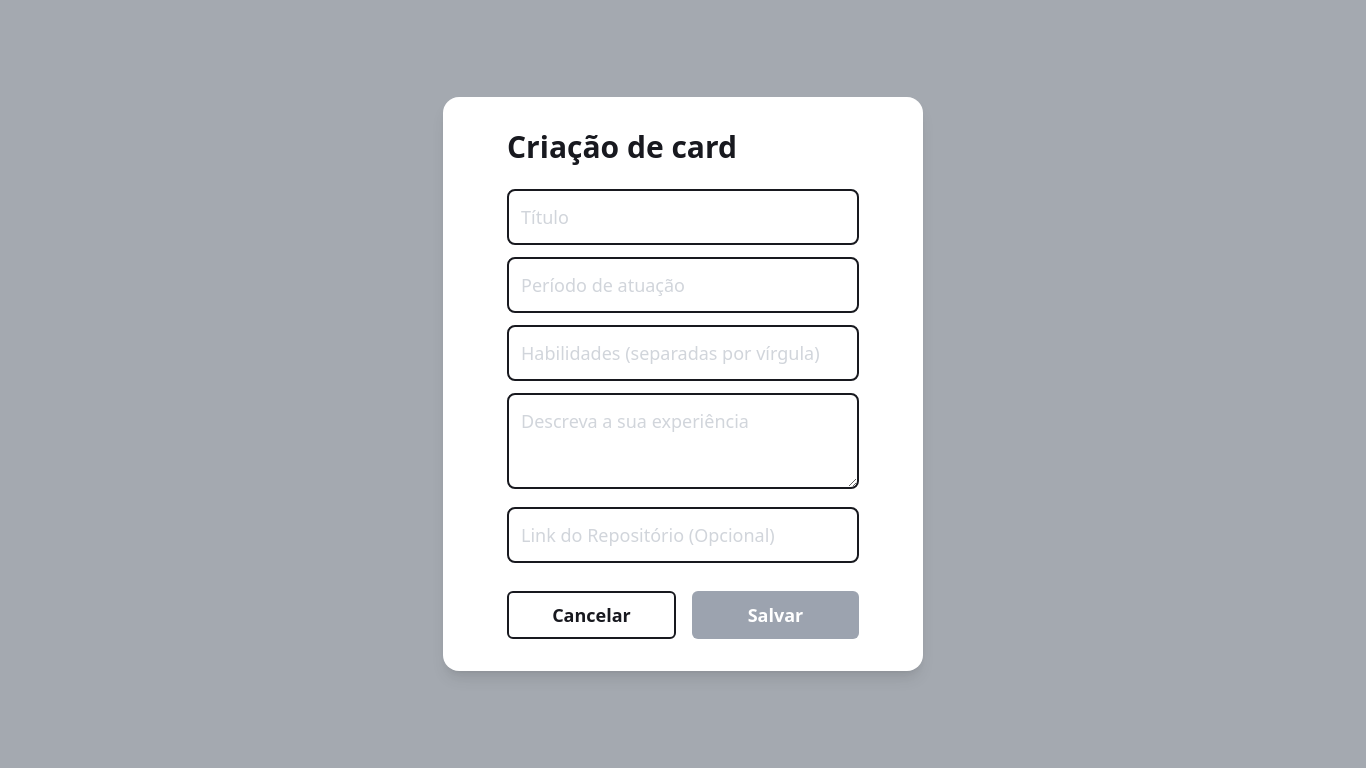
ExpModal Component › enables the save button when all required fields are filled
In the field with placeholder "Título": [683, 217] box [507, 189, 859, 245], type "Developer"
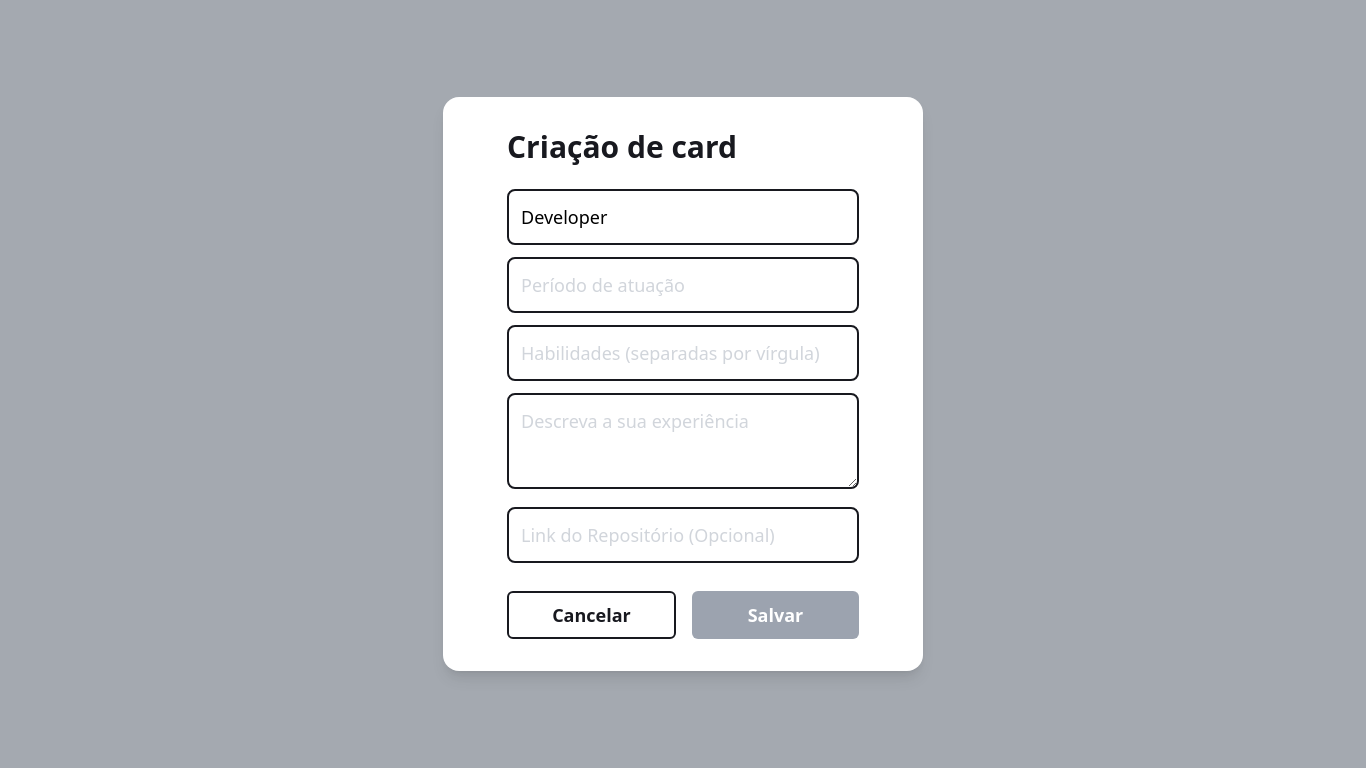
In the field with placeholder "Período de atuação": [683, 285] box [507, 257, 859, 313], type "2020-2021"
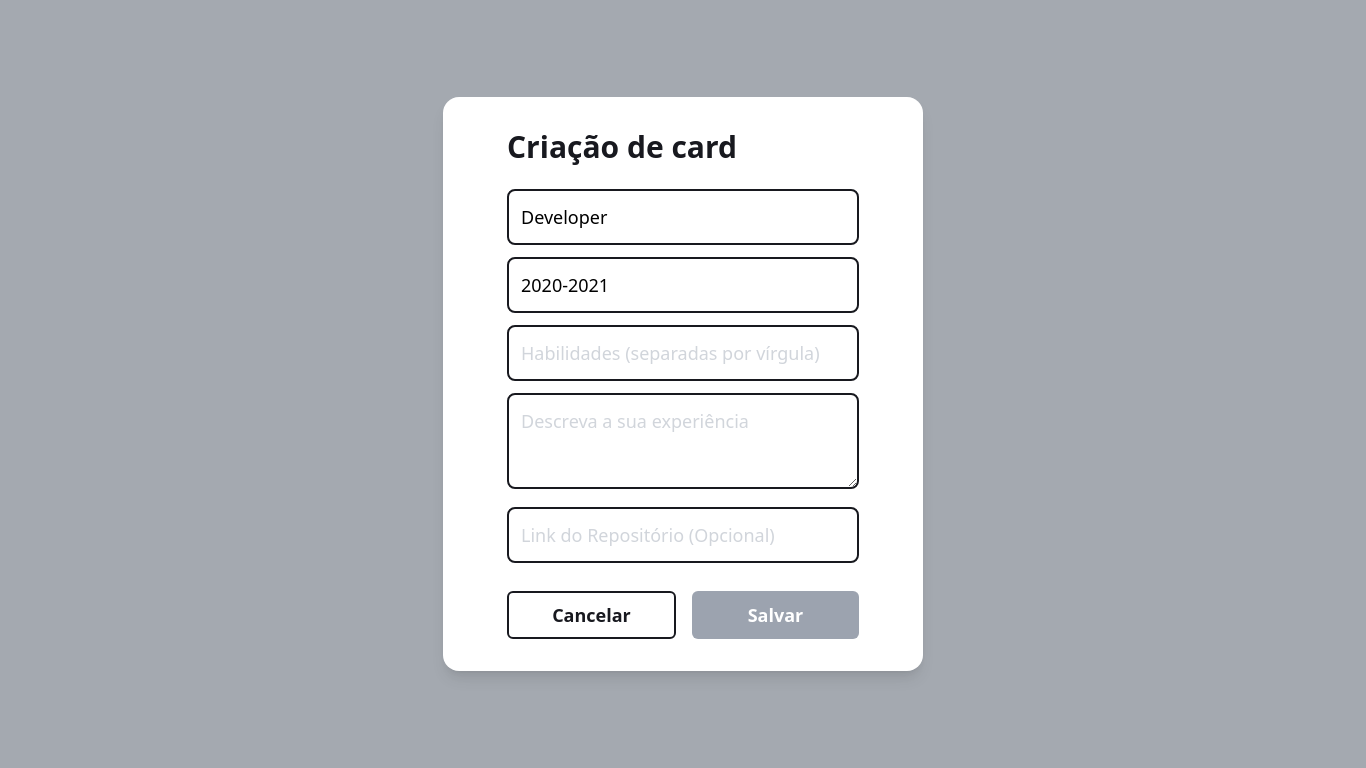
In the field with placeholder "Habilidades (separadas por vírgula)": [683, 353] box [507, 325, 859, 381], type "React, JavaScript"
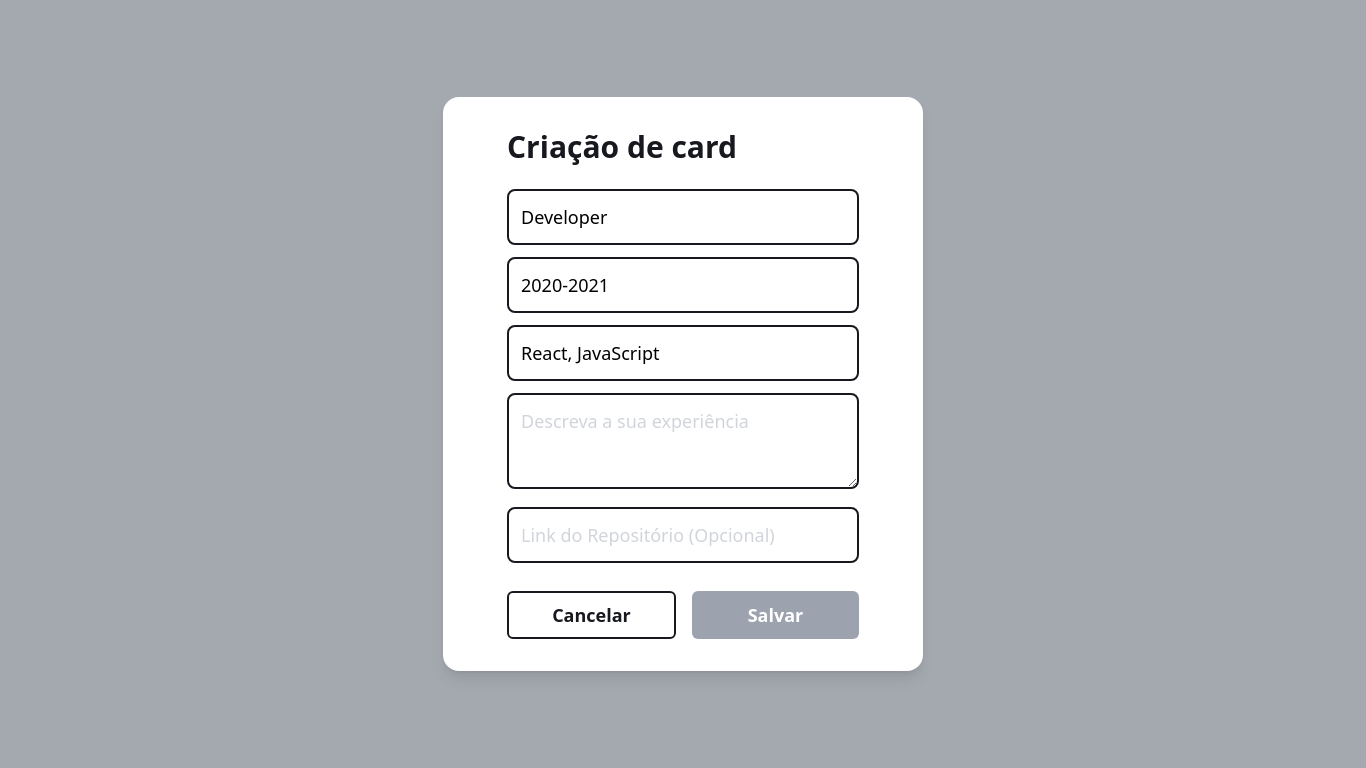
In the text box with placeholder "Descreva a sua experiência": [683, 441] box [507, 393, 859, 489], type "Worked on a project"
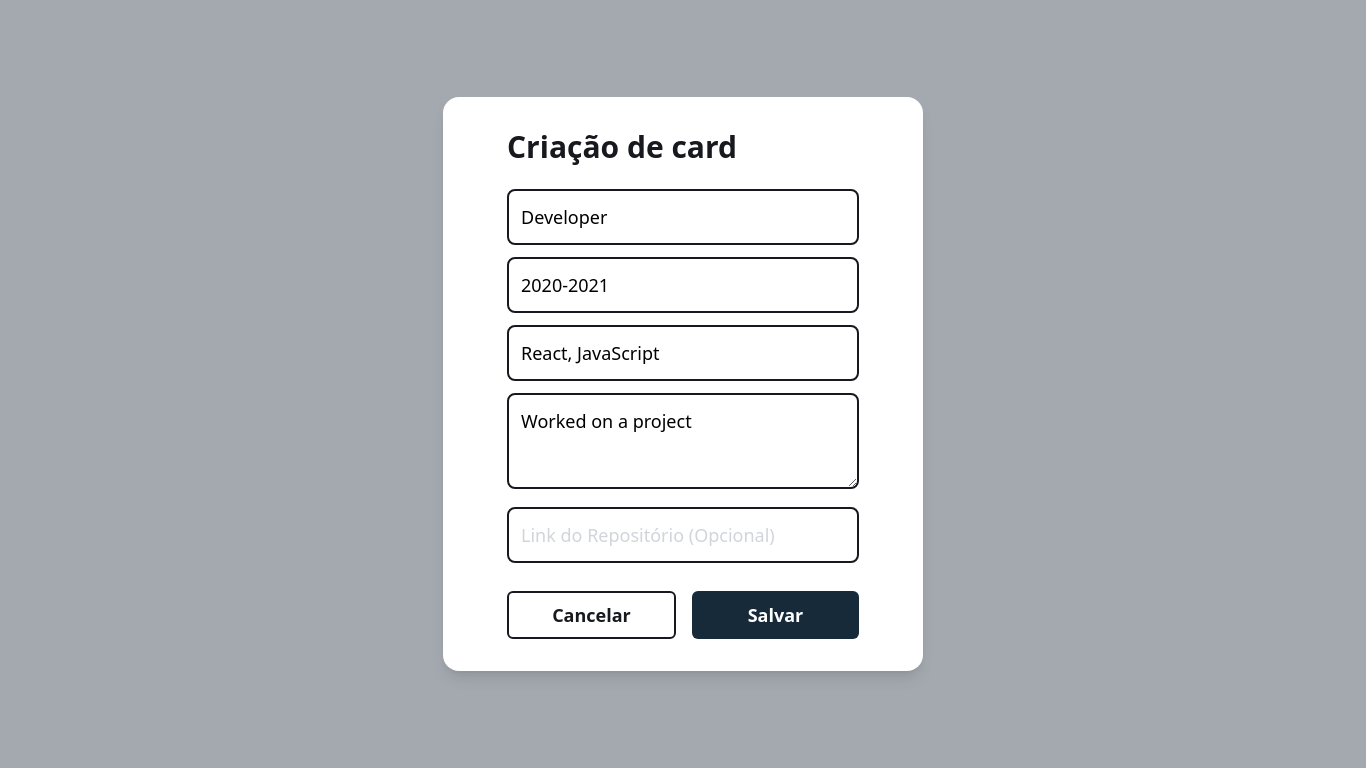
Expected: the button "Salvar" is enabled, [692, 591, 859, 639]
